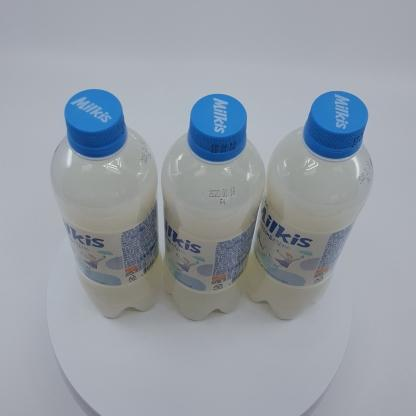-----500ML: (246, 91, 374, 320), (50, 89, 163, 318), (161, 94, 265, 321)
